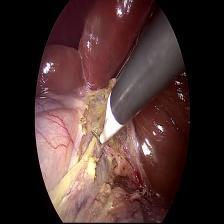Hook: (83, 94, 125, 160)
